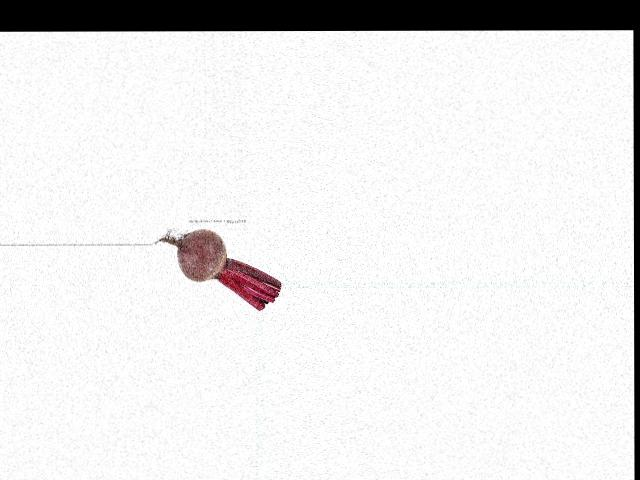beet: (154, 229, 281, 310)
